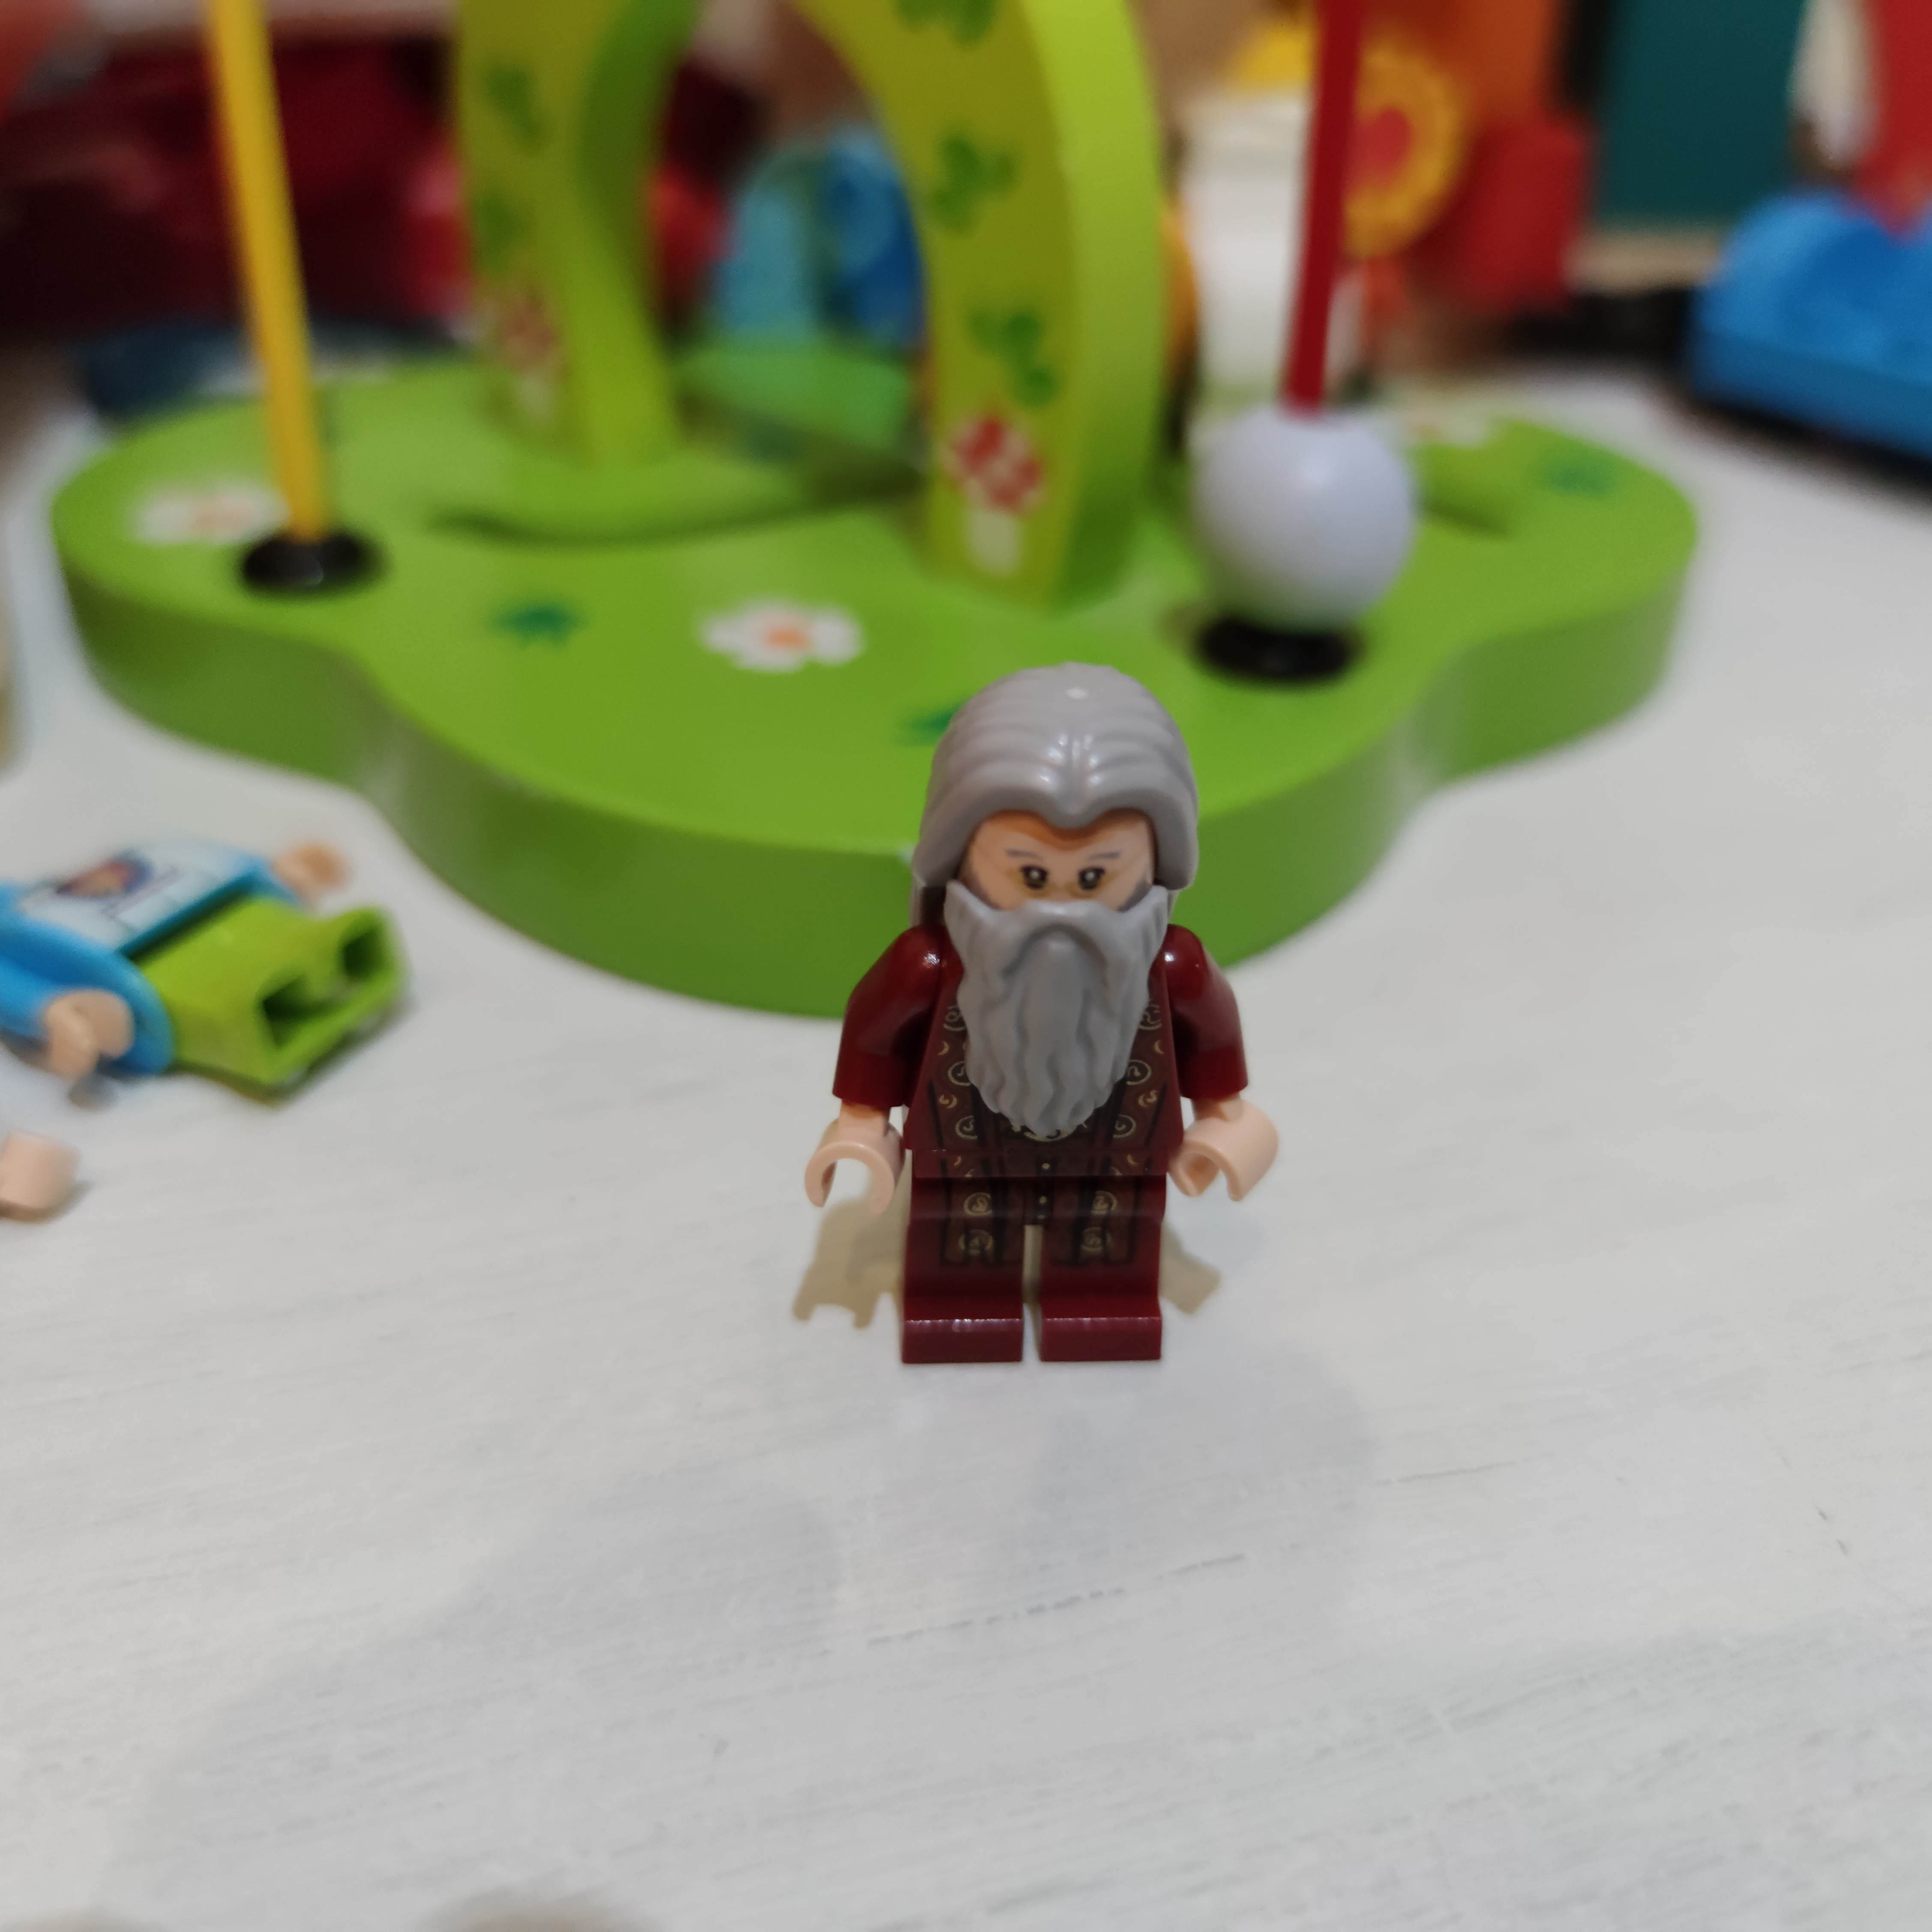lego: (798, 660, 1286, 1371)
